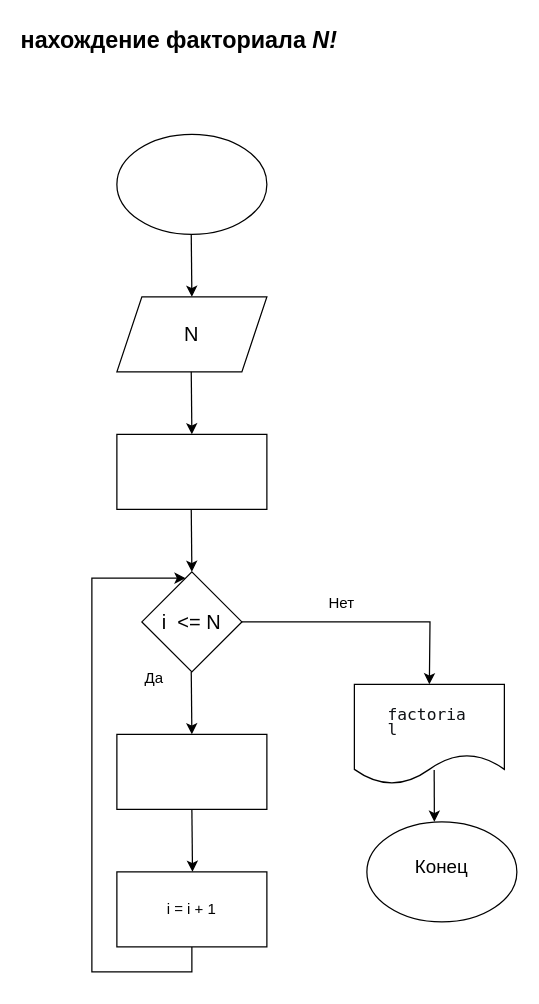
Image size: 539x1004. Some labels were removed from this diagram. Here are the shapes that lost their labels. From the top down, the box of each, then its label:
(116, 133, 267, 234): Начало
(116, 433, 267, 509): i = 1 factorial = 1
(116, 733, 267, 809): factorial = factorial*i
